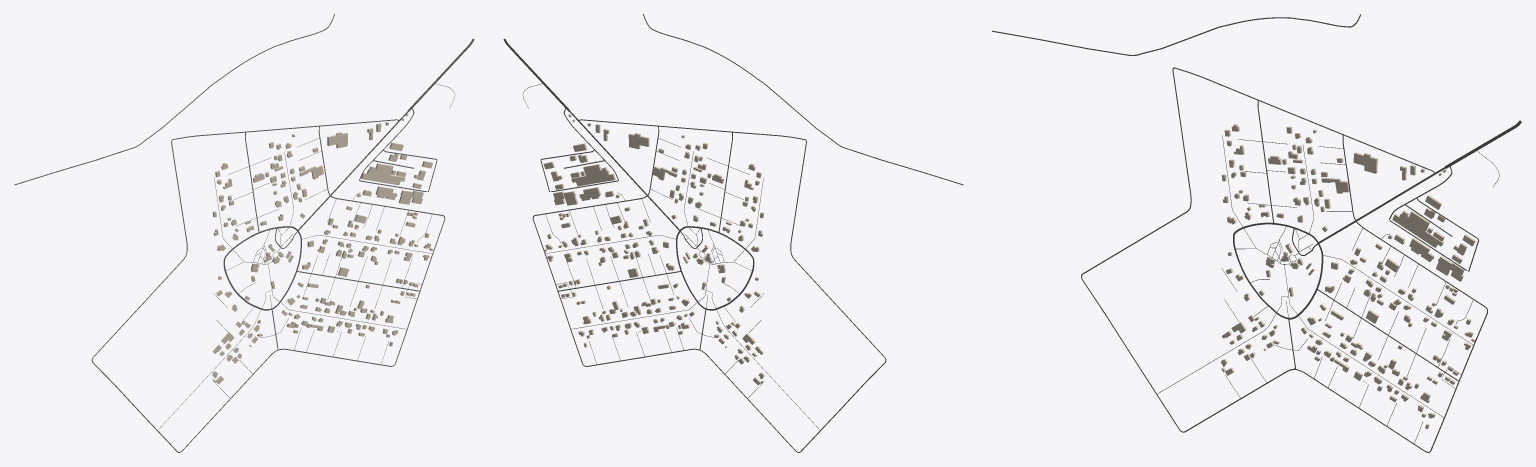
Rendered from historic-palestine-12_26_3544_3204.glb.
The picture shows the model from 3 angles, left to right: view 1: azimuth 30°, elevation 25°; view 2: azimuth 150°, elevation 25°; view 3: azimuth 330°, elevation 25°; orthographic projection. The views are drawn at different scales.
Visible parts, largest first — view 1: Road .003, Building_.021, Road .007, Road .002; view 2: Road .003, Building_.021, Road .007, Road .002; view 3: Road .003, Building_.021, Road .007, Road .002.
Part boxes in pixels (bbox=[...]): Road .003: bbox=[91, 126, 445, 452]; Building_.021: bbox=[361, 163, 405, 185]; Road .007: bbox=[14, 14, 334, 185]; Road .002: bbox=[223, 226, 301, 310]; Road .003: bbox=[532, 126, 886, 452]; Building_.021: bbox=[571, 164, 615, 186]; Road .007: bbox=[643, 14, 963, 185]; Road .002: bbox=[676, 226, 754, 310]; Road .003: bbox=[1081, 70, 1487, 452]; Building_.021: bbox=[1392, 210, 1443, 247]; Road .007: bbox=[992, 14, 1360, 55]; Road .002: bbox=[1233, 222, 1323, 319].
Bounding box in the file's own units: 1630 × 1357 × 8.7.
